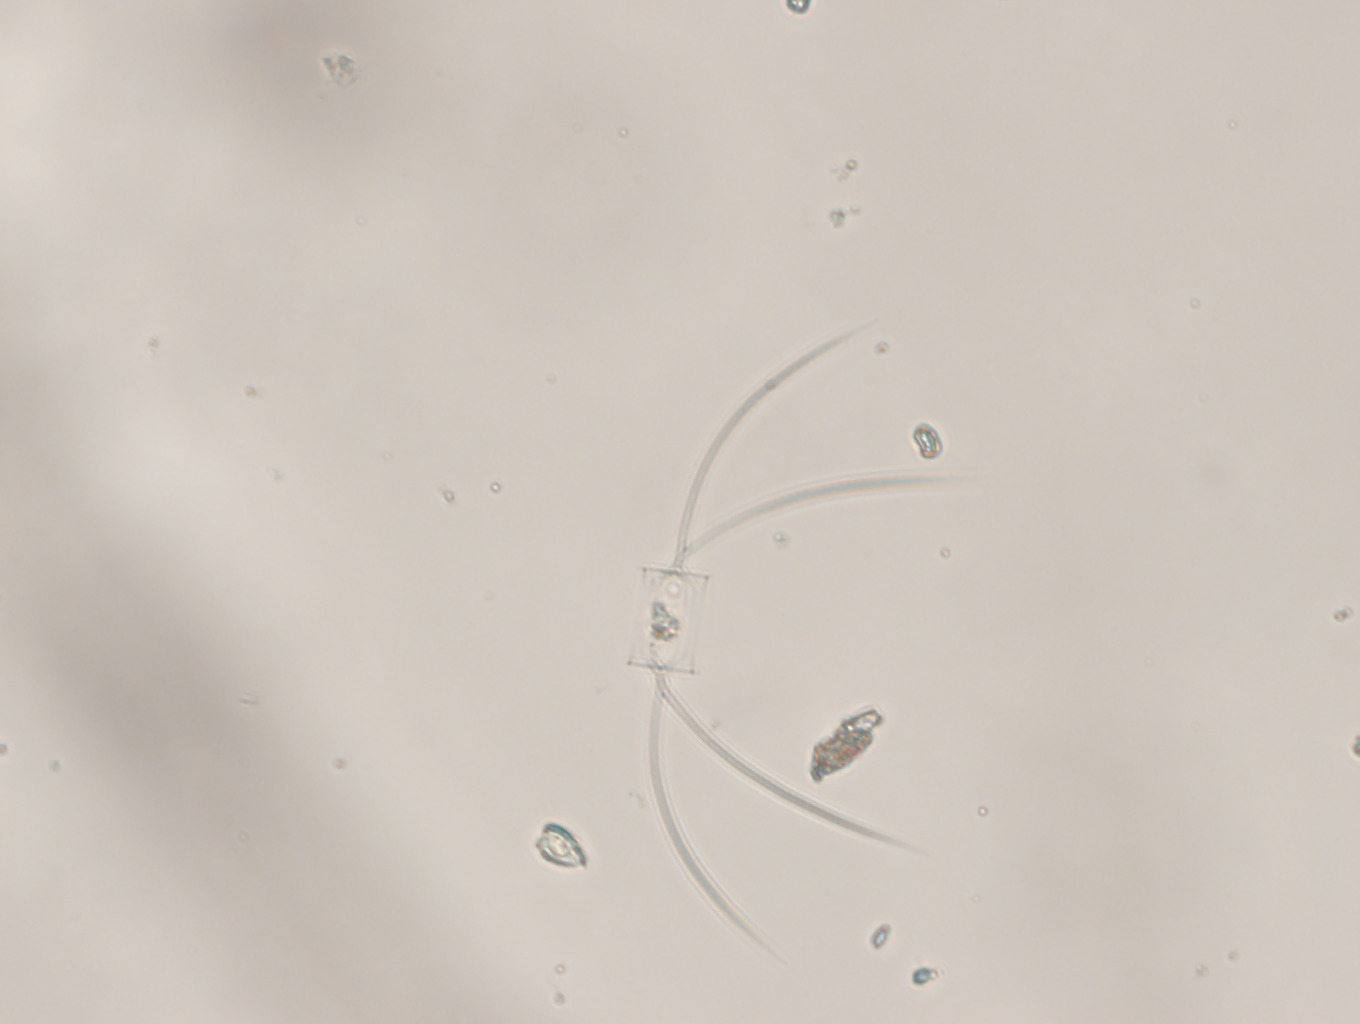chaetoceros: (619, 299, 999, 965)
